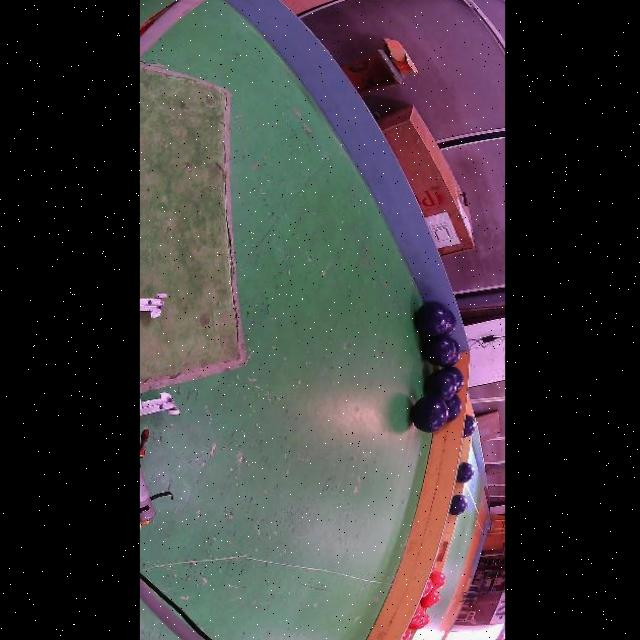B: (411, 396, 448, 433), (415, 302, 449, 336), (423, 335, 456, 367), (425, 369, 457, 401), (444, 365, 465, 393), (444, 340, 461, 367), (445, 395, 462, 421), (456, 462, 475, 484), (449, 495, 468, 515), (443, 310, 457, 336), (463, 415, 476, 438)
R: (420, 589, 440, 608), (409, 614, 430, 630), (410, 608, 425, 627), (430, 571, 445, 589), (421, 579, 433, 598), (400, 627, 411, 640), (414, 603, 421, 617)
